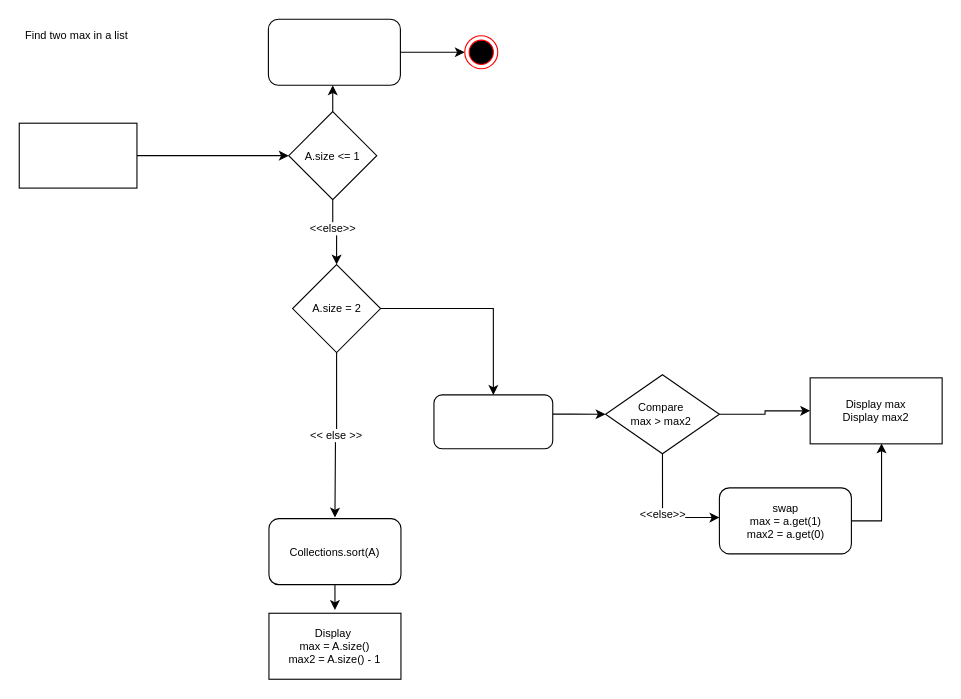
Image size: 961x699. Some labels were removed from this diagram. Here are the shapes that lost their labels. From the top down, the centre of each, then its label:
At pixel 333 51: "max = null max2 = null".
At pixel 77 155: "List A<int>".
At pixel 493 421: "max = A.get(0) max2 = A.get(1)".
